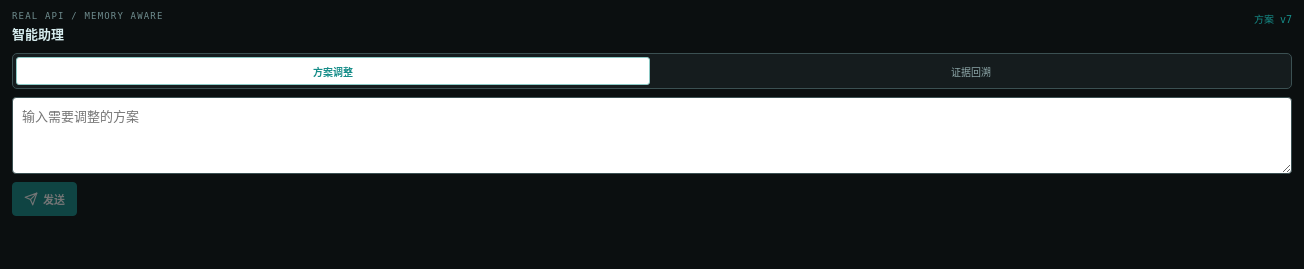
Scenario: SmartAssistantPanel › asks for a fresh preview when the plan version has advanced
The image size is (1304, 269).
Type "保持当前任务区域" into the text box named "智能助理输入".
click(652, 135); type("保持当前任务区域")  # box [12,97,1292,174]
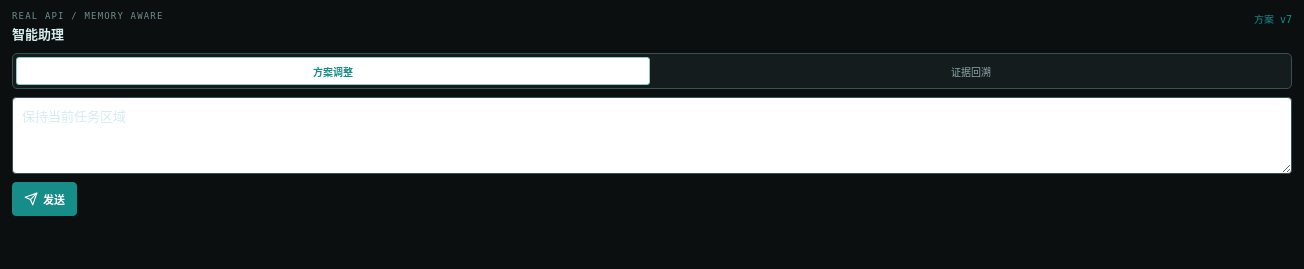
Click the button "发送".
click(44, 198)  # box [12,182,77,216]
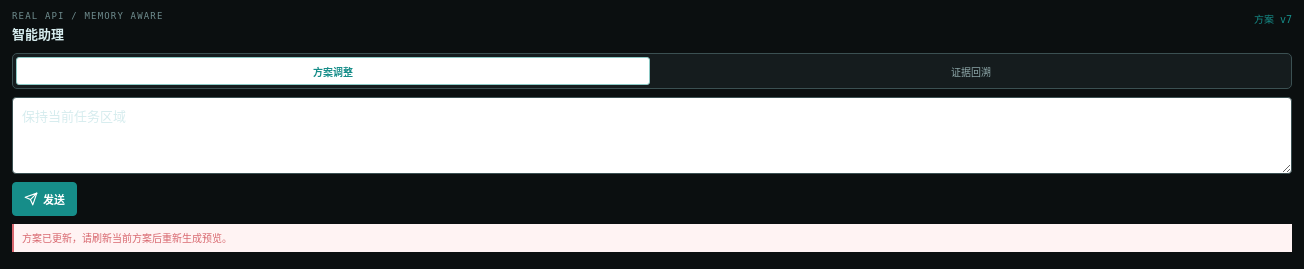
Expected: the message shows "重新生成预览", [22,230,232,244]
